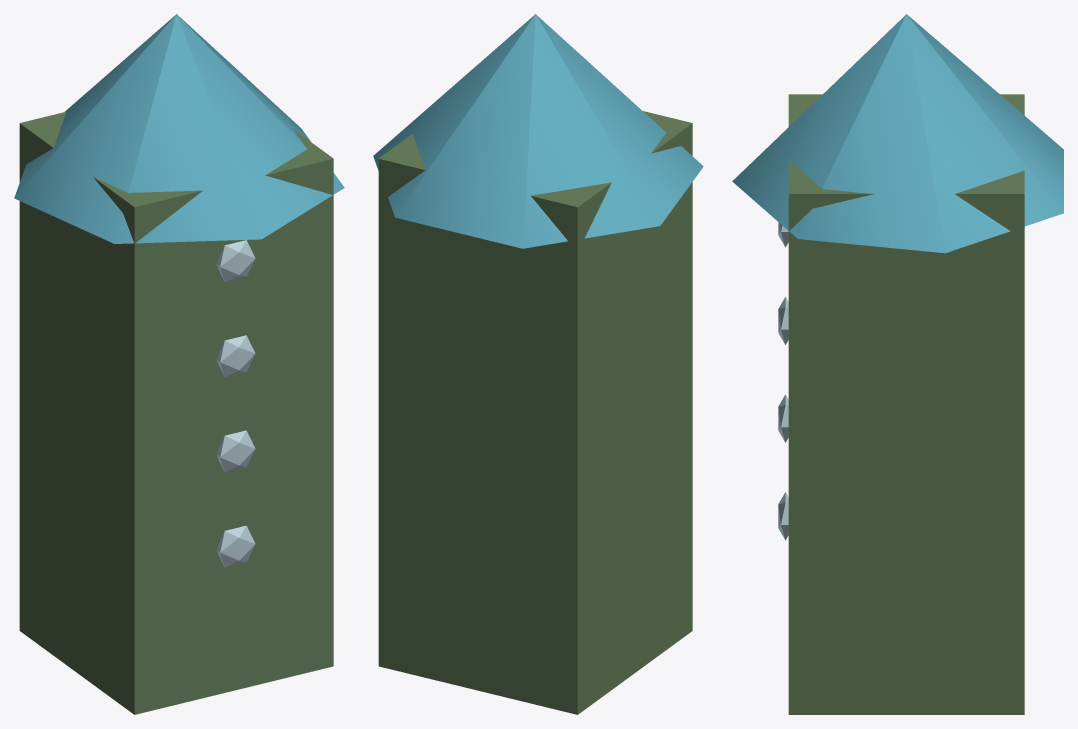
File: watchtower.glb
3 renders of one model, left to right at view 1: azimuth 30°, elevation 25°; view 2: azimuth 150°, elevation 25°; view 3: azimuth 270°, elevation 25°, orthographic. The views are drawn at different scales.
Parts seen in each view (by area): view 1: tower_body, tower_crown, window_3, window_0, window_1, window_2; view 2: tower_body, tower_crown; view 3: tower_body, tower_crown.
Part boxes in pixels (box(x1,y1,x2,y2)): tower_body: box(19, 111, 333, 714); tower_crown: box(14, 14, 344, 243); window_3: box(216, 240, 255, 282); window_0: box(216, 525, 255, 567); window_1: box(216, 430, 255, 472); window_2: box(216, 335, 255, 377); tower_body: box(378, 111, 692, 714); tower_crown: box(373, 14, 703, 248); tower_body: box(788, 94, 1024, 714); tower_crown: box(732, 14, 1063, 253).
Size of what is drawn, in the model's own units: 3.31 by 7 by 3.23.
